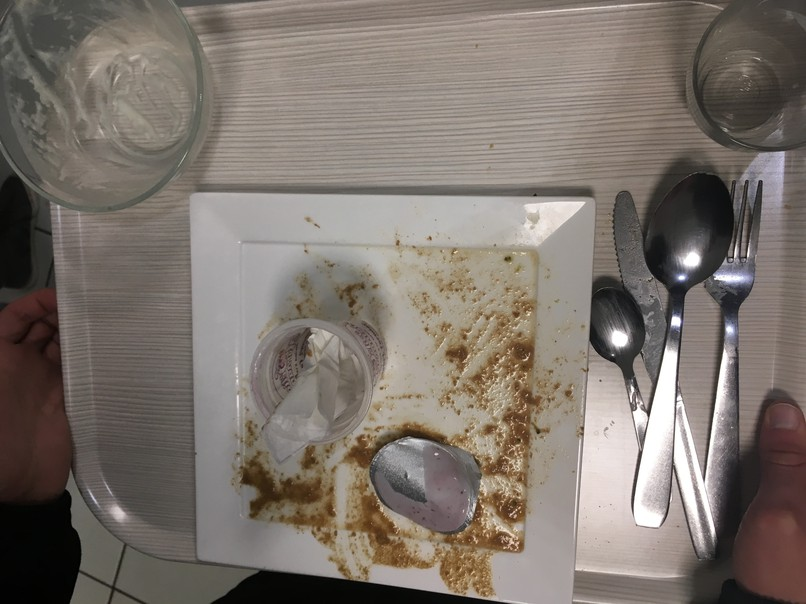cup: (689, 3, 806, 155)
cutlery: (594, 176, 787, 572)
trash: (252, 314, 387, 461), (375, 433, 492, 527)
